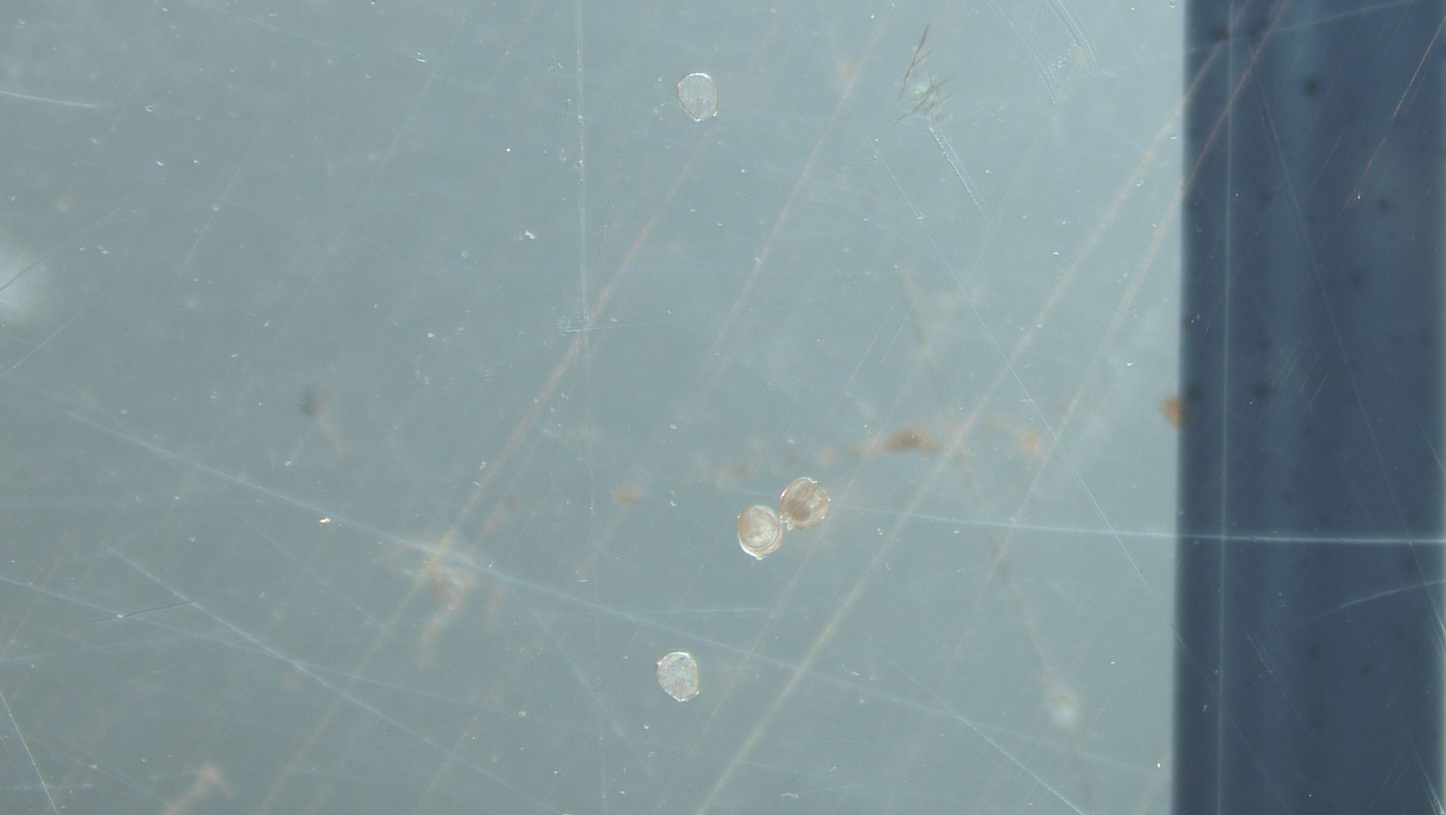dead: (736, 506, 786, 559), (656, 652, 700, 702), (676, 73, 719, 122)
live: (777, 477, 831, 530)
